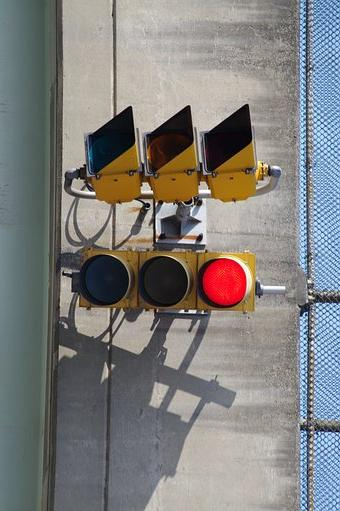trafic: (82, 249, 254, 308)
